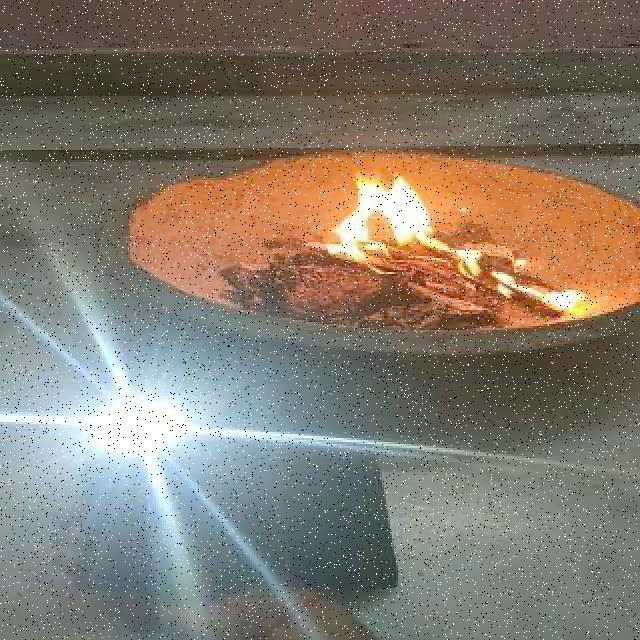fire: (329, 168, 457, 272), (540, 270, 595, 321)
light: (60, 363, 226, 494)
